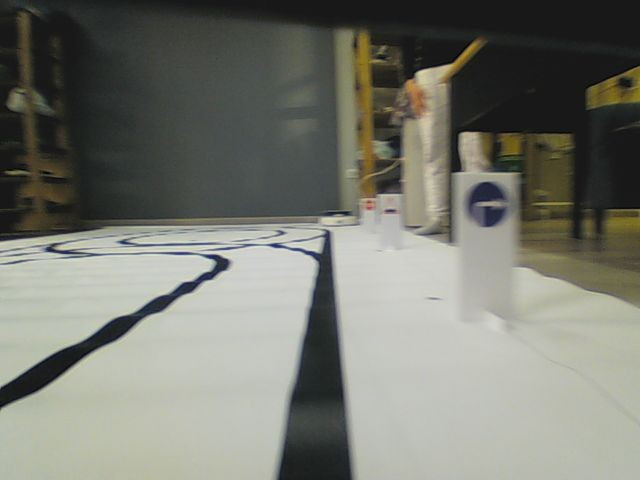Right: (466, 179, 509, 228)
